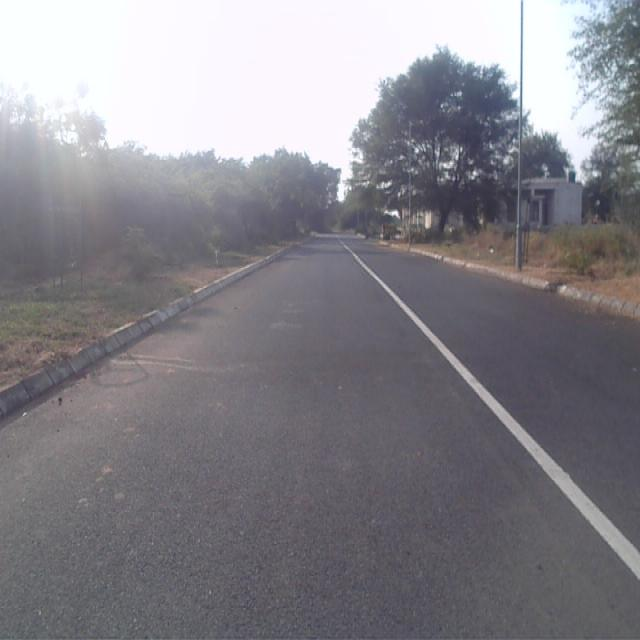lane: (0, 236, 640, 640)
